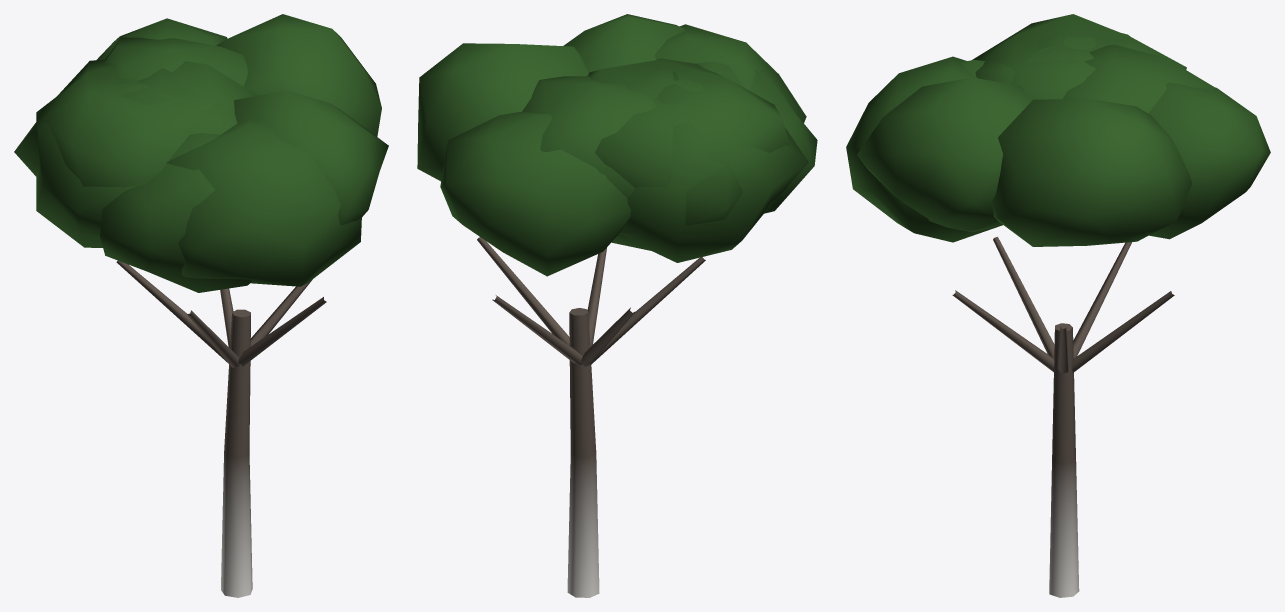
Rendered from sau_lod.glb.
3 renders of one model, left to right at view 1: azimuth 30°, elevation 25°; view 2: azimuth 150°, elevation 25°; view 3: azimuth 270°, elevation 25°, orthographic. The views are drawn at different scales.
Parts seen in each view (by area): view 1: sau_lod; view 2: sau_lod; view 3: sau_lod.
Boxes of the visible parts, x1,y1,x2,y2 form: sau_lod: (14, 14, 388, 597); sau_lod: (417, 14, 817, 597); sau_lod: (846, 14, 1270, 597).
Bounding box in the file's own units: 7.26 × 10.91 × 8.09.
